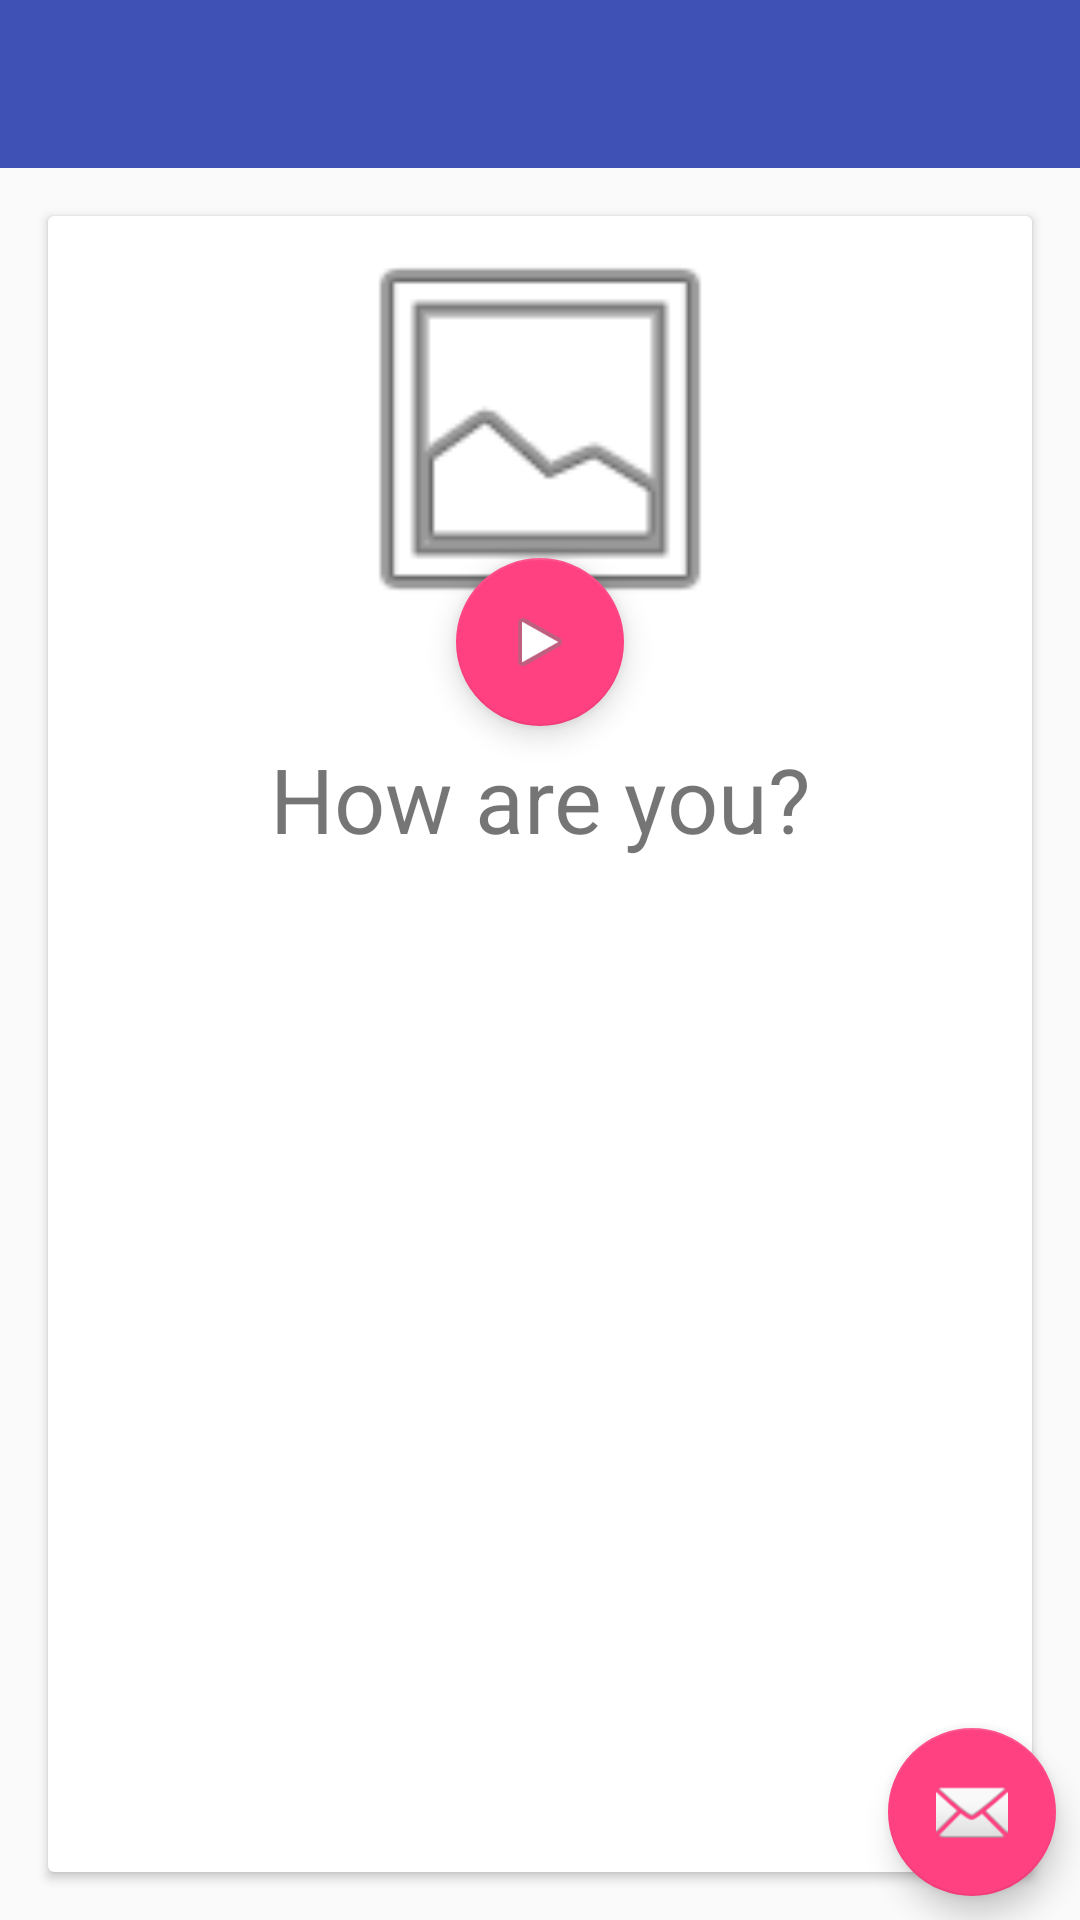

Locate icon controls on the screen. Image size 1080px x 1920px, boxes as (x1, y1, x2, y2).
email: (888, 1728, 1056, 1896)
play: (456, 558, 624, 726)
